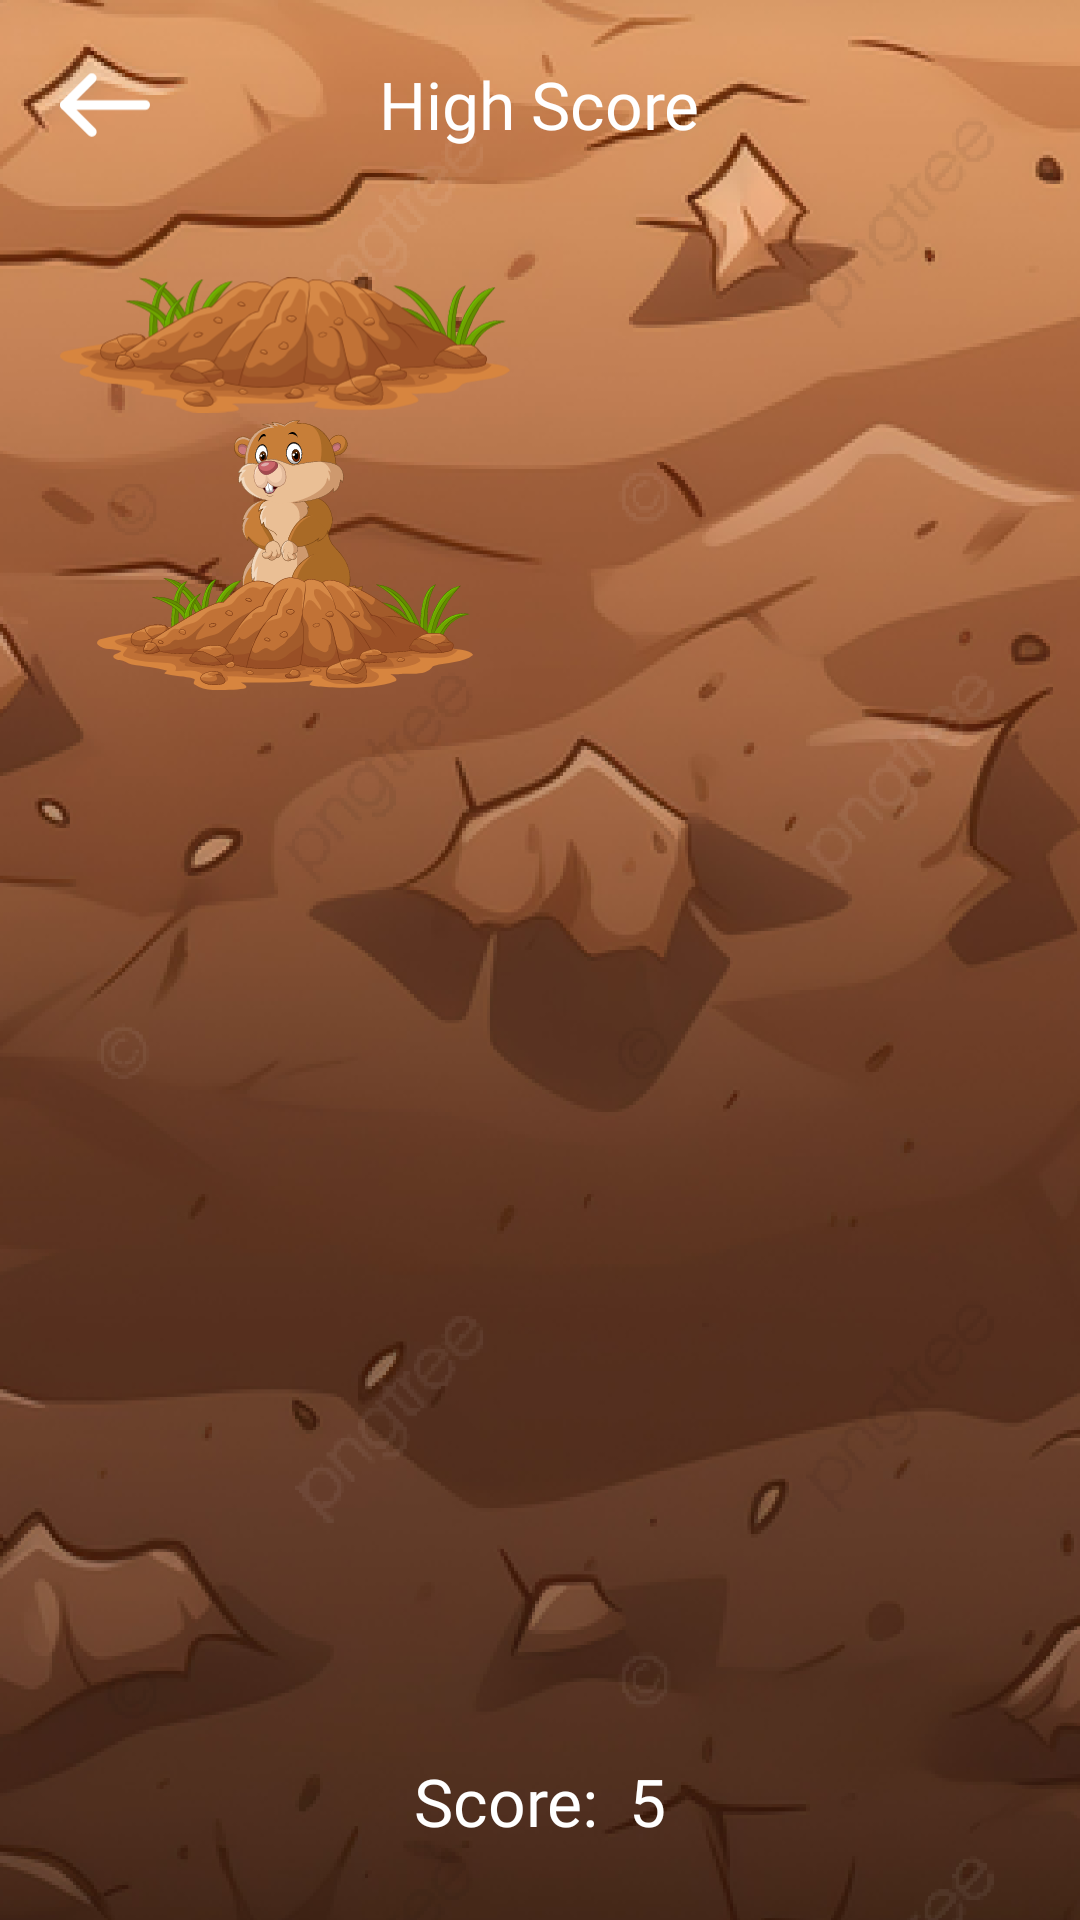

Icons on this 1080×1920 Android screen, each with the point to tap as (x,y):
arrow: (105,98)
